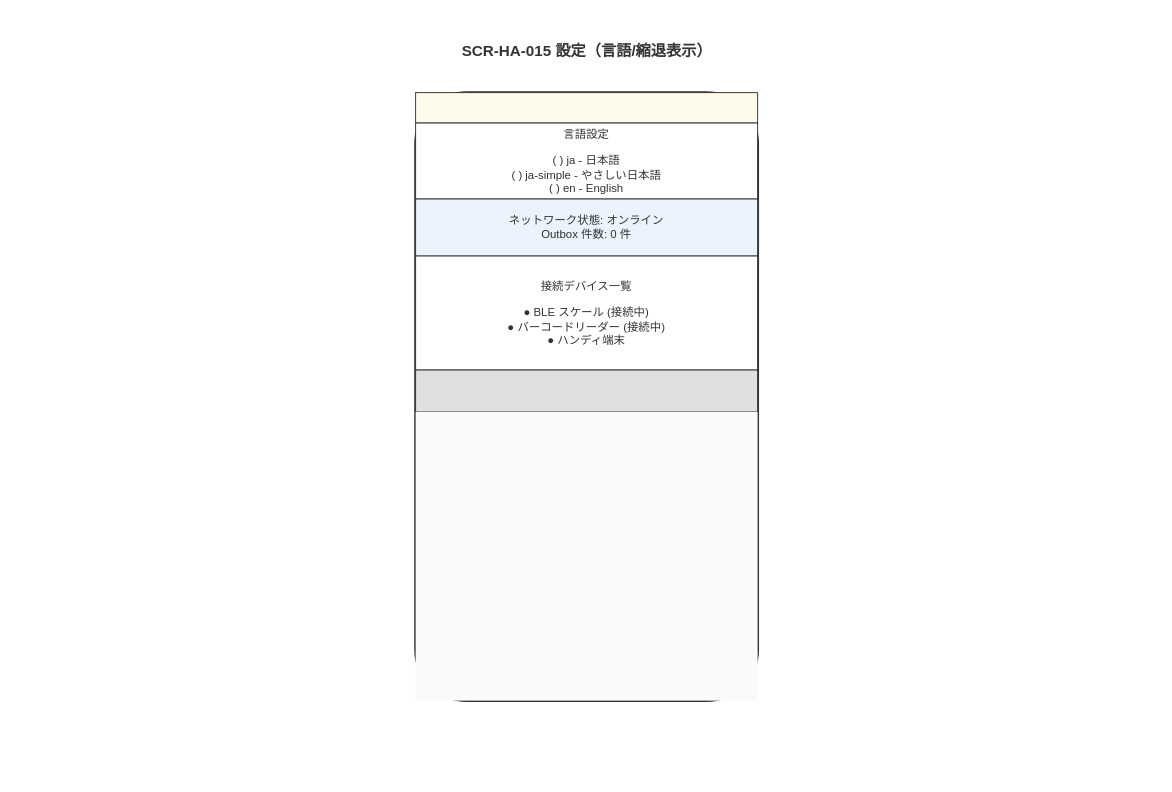
This 1172x792 diagram has some shape labels left out. Here are the shapes that lost their labels. From the top down, the centre of each, then its label:
At point (586, 107): "OfflineBanner".
At point (586, 390): "ログアウト ボタン".
